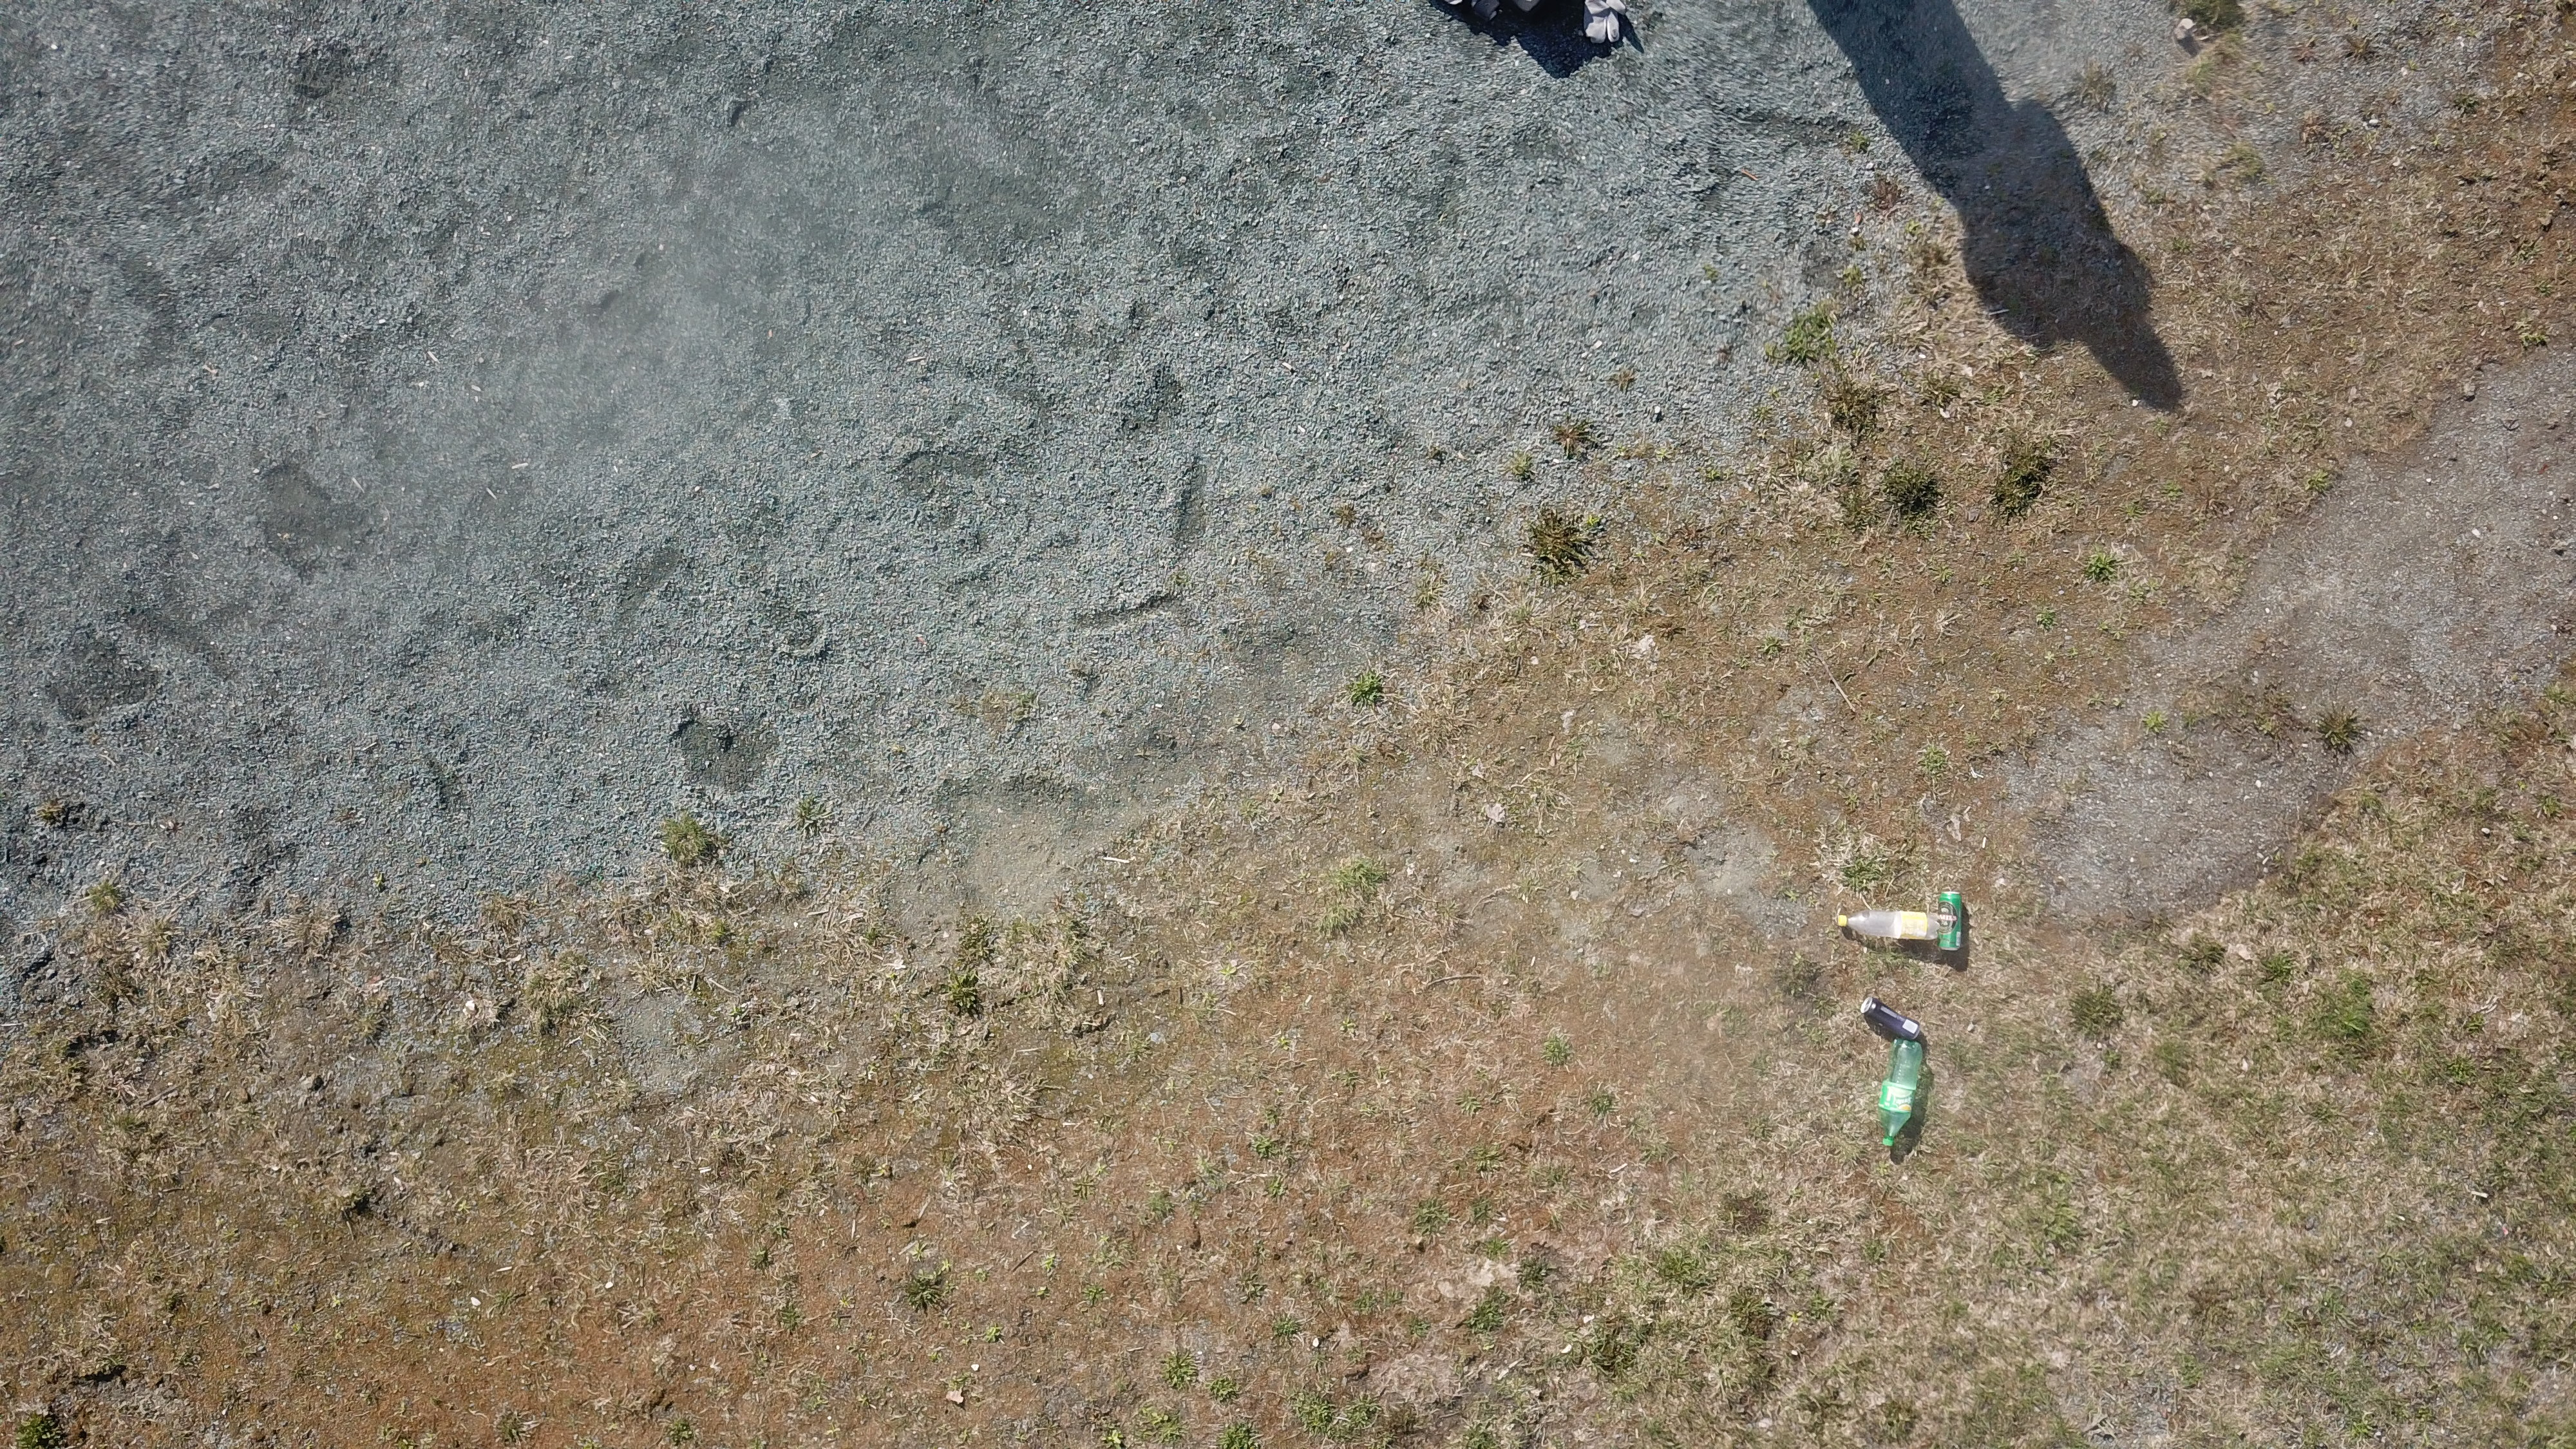Can: (1859, 994, 1921, 1039), (1941, 892, 1964, 952)
PlasticBottle: (1881, 1039, 1923, 1146), (1835, 908, 1941, 943)
